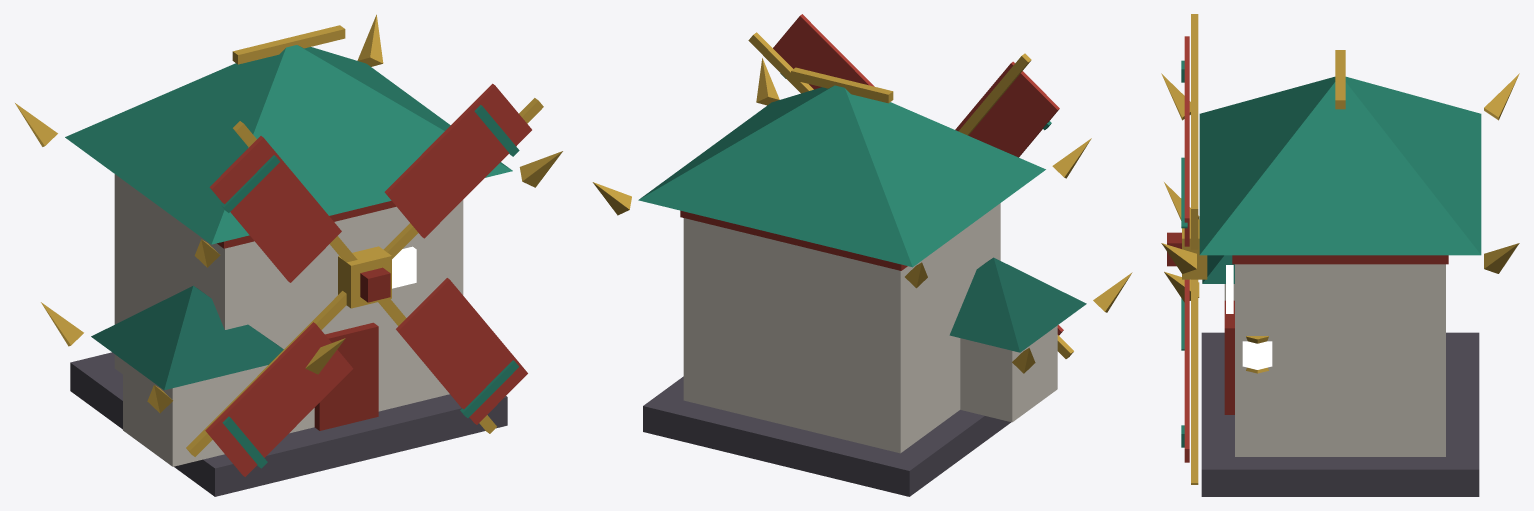
Rendered from mill_t2.glb.
3 views of the same model, side by side, from view 1: azimuth 30°, elevation 25°; view 2: azimuth 150°, elevation 25°; view 3: azimuth 270°, elevation 25° (orthographic). The views are drawn at different scales.
Visible parts, largest first — view 1: body, part_rotor, glow; view 2: body, part_rotor; view 3: body, part_rotor, glow.
Part boxes in pixels (x1,y1,x2,y2): body: [15, 14, 562, 496]; part_rotor: [186, 83, 543, 476]; glow: [392, 246, 416, 288]; body: [592, 58, 1132, 496]; part_rotor: [748, 14, 1073, 358]; body: [1161, 50, 1519, 496]; part_rotor: [1167, 14, 1207, 484]; glow: [1226, 265, 1272, 369].
Bounding box in the file's own units: 1.8 × 1.57 × 1.43.
